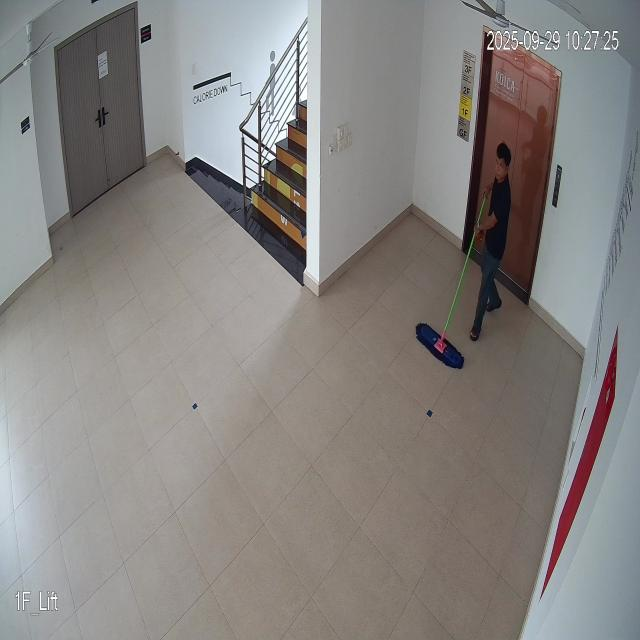face: (493, 141, 512, 181)
